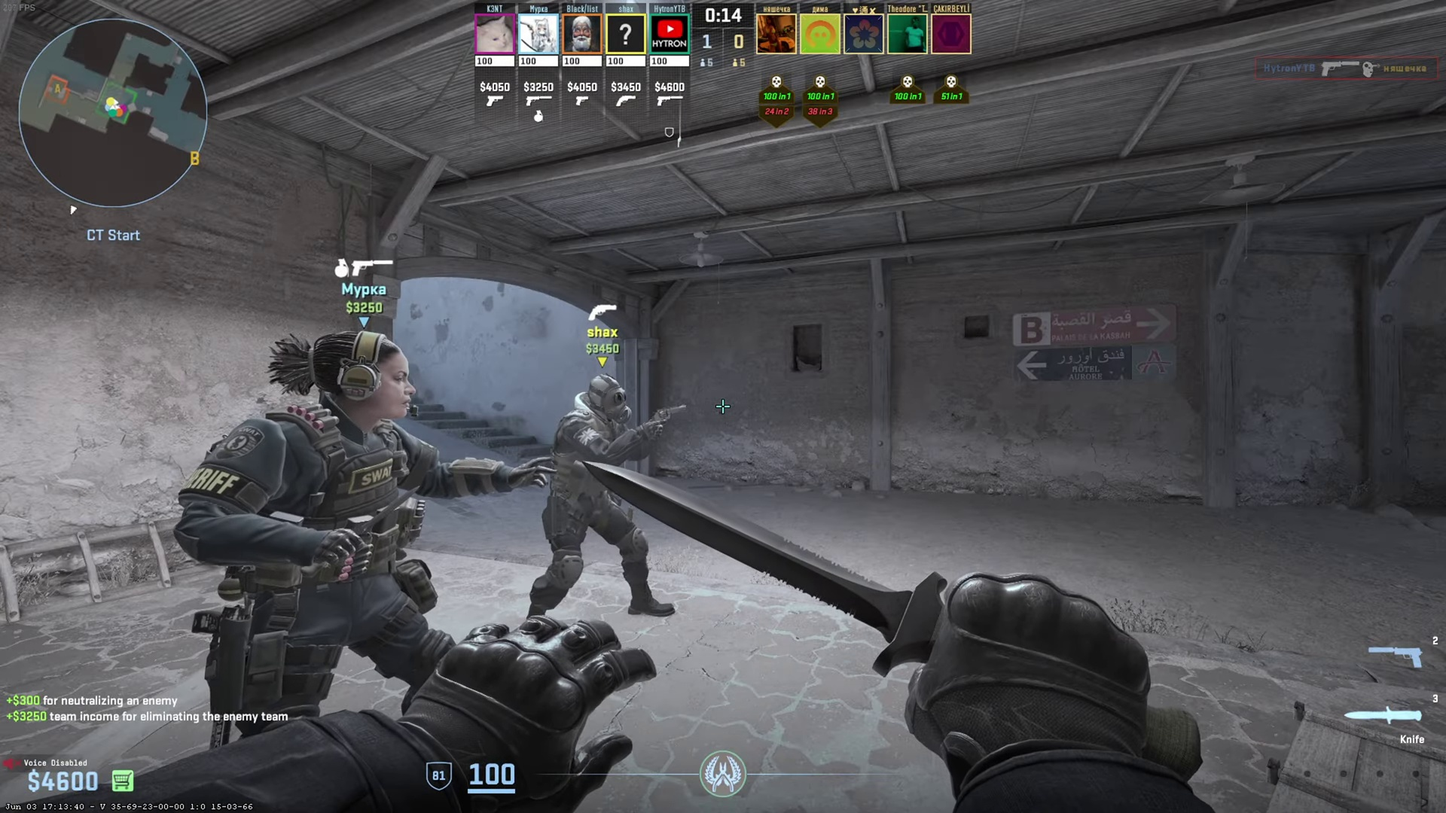CT: (205, 331, 449, 742), (536, 374, 675, 616)
